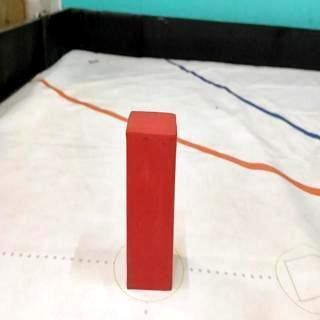redbox: (126, 110, 176, 290)
